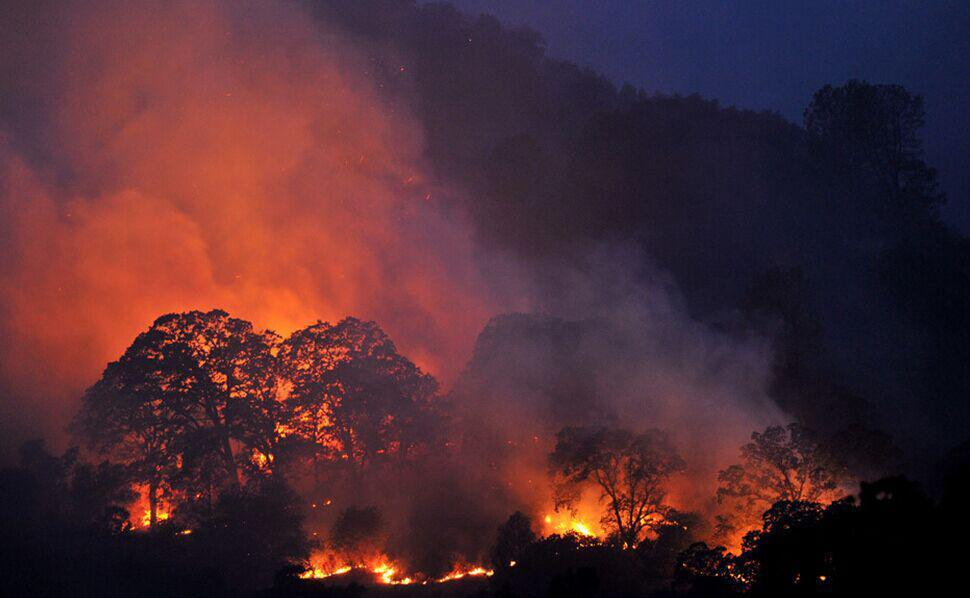fire: (291, 520, 495, 588), (538, 476, 658, 548), (130, 475, 188, 531)
